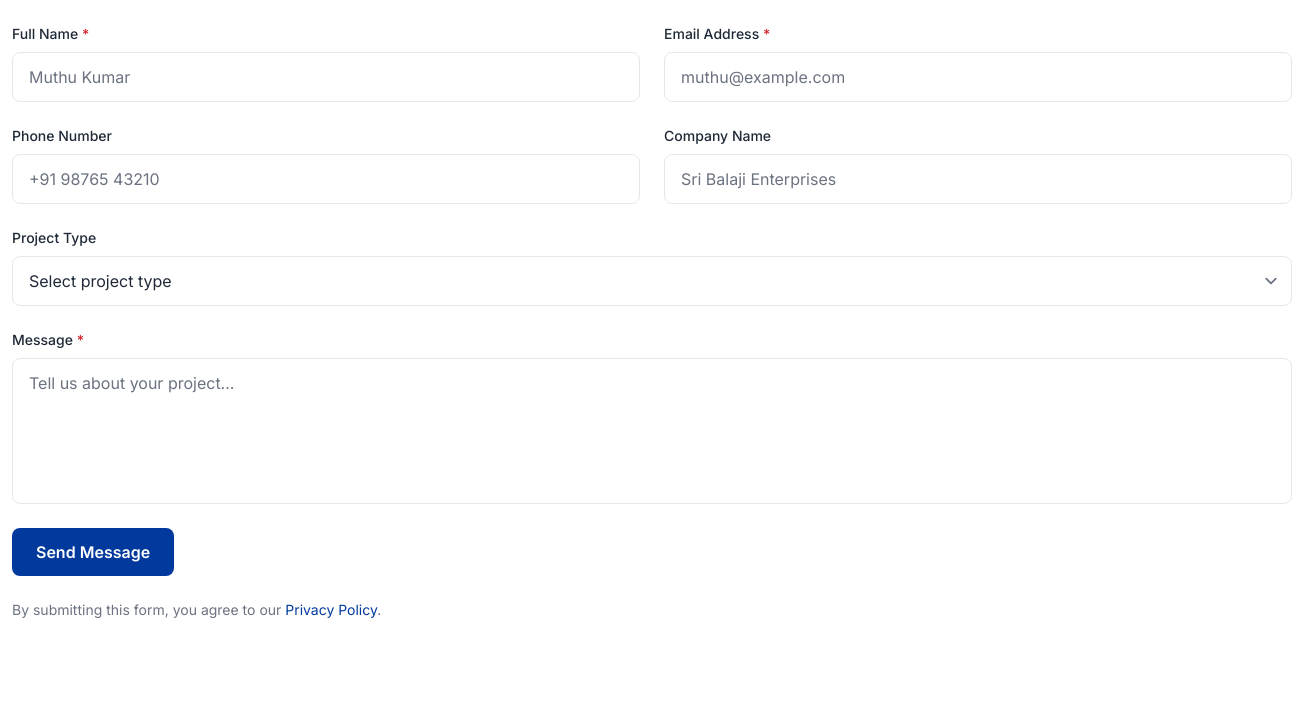
Test: ContactForm › shows error message on submission failure
Note: Fill out the form
Type "John Doe" into the field labelled "Full Name *" at x=326, y=77, box x1=12 y1=52 x2=640 y2=102
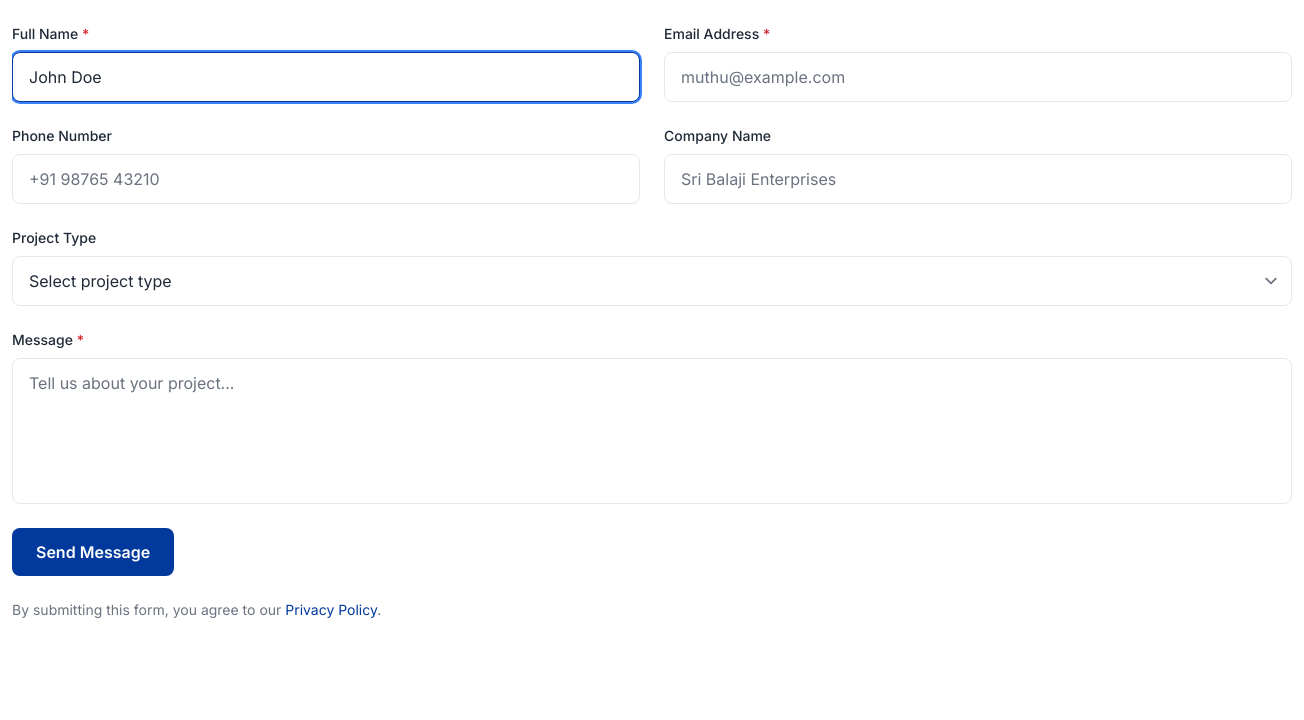
Type "john@example.com" into the field labelled "Email Address *" at x=978, y=77, box x1=664 y1=52 x2=1292 y2=102
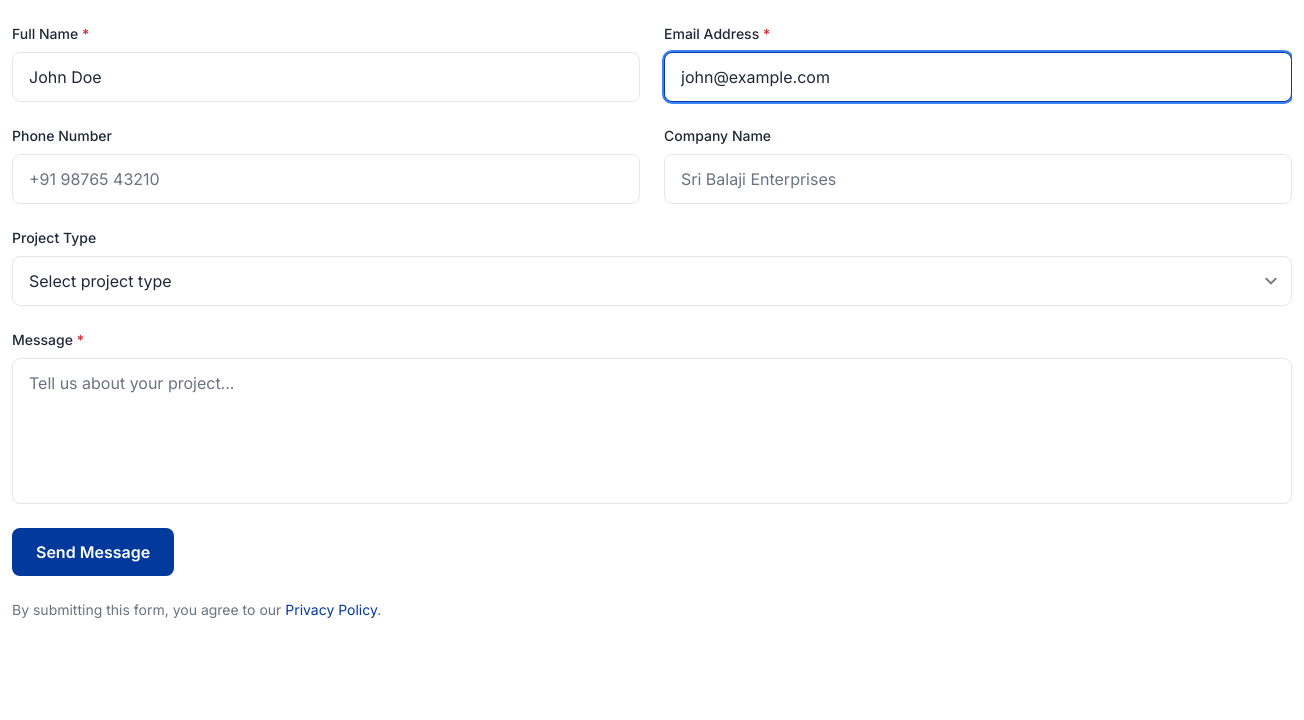
Type "Test message" into the text box labelled "Message *" at x=652, y=431, box x1=12 y1=358 x2=1292 y2=504
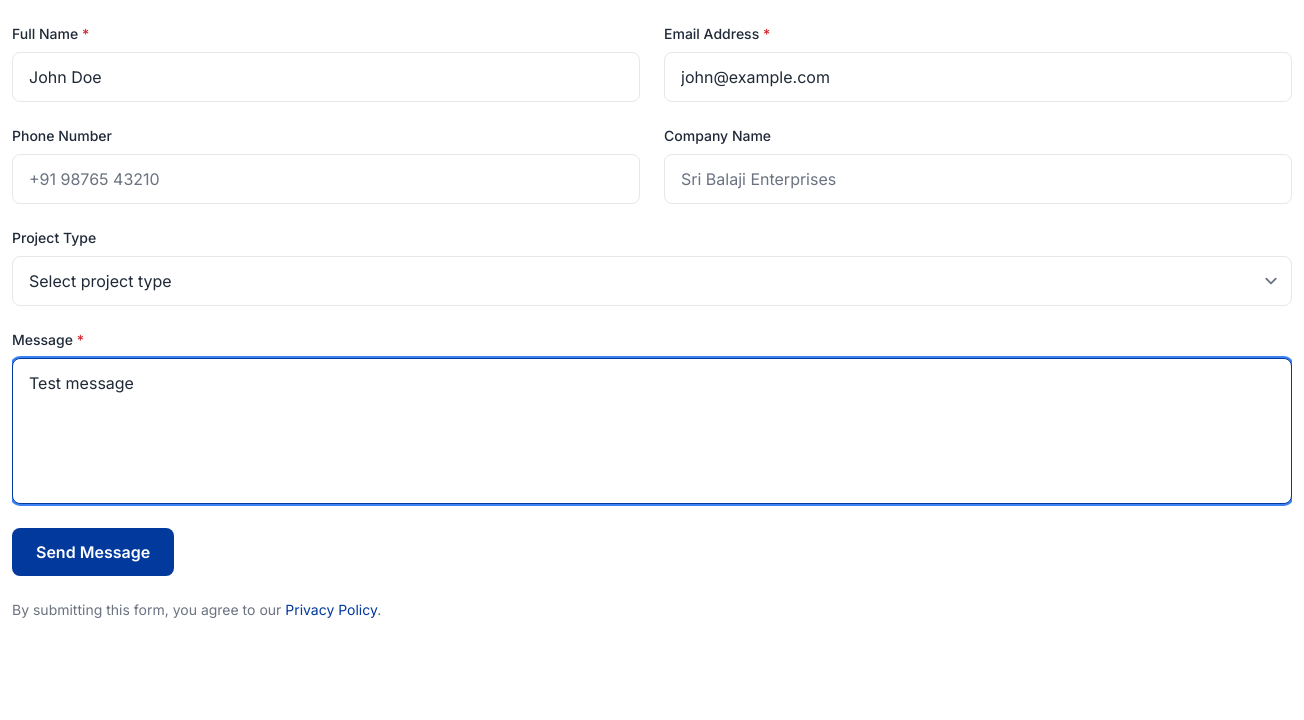
Click the button "Send Message" at x=93, y=552, box x1=12 y1=528 x2=174 y2=576
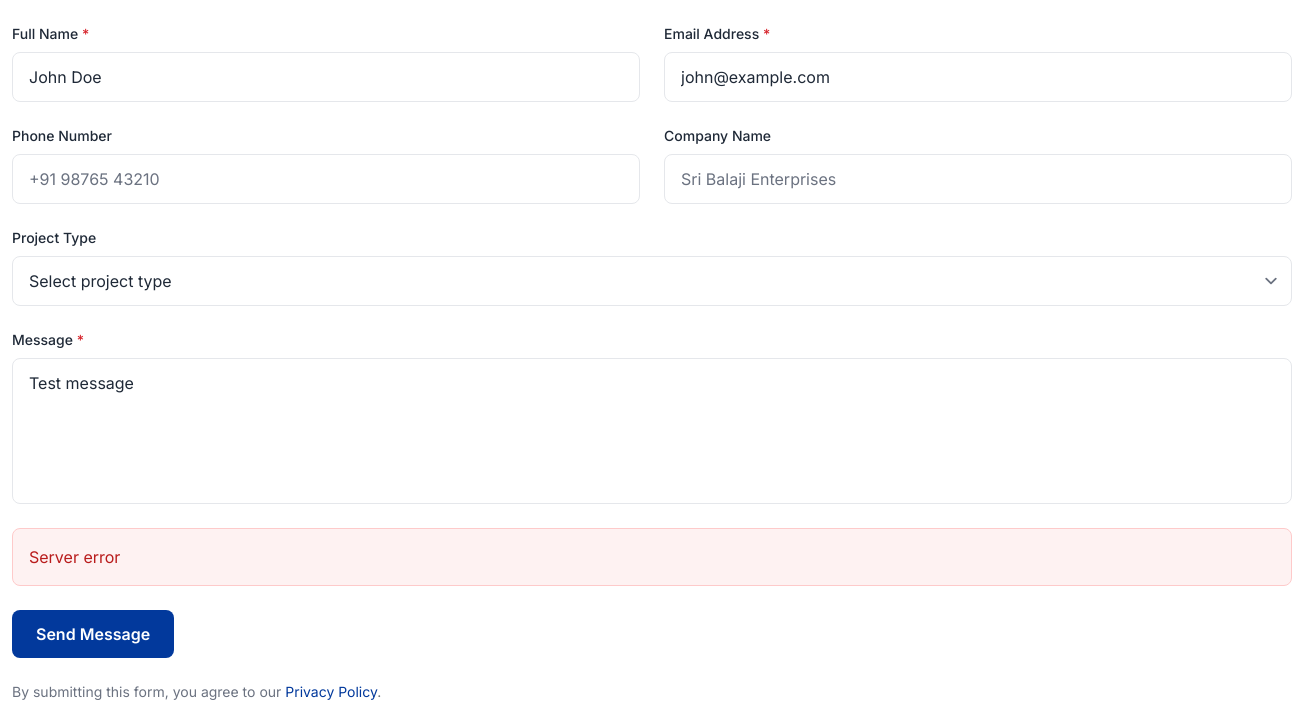
Now the text "Server error" is shown, box x1=12 y1=528 x2=1292 y2=586
